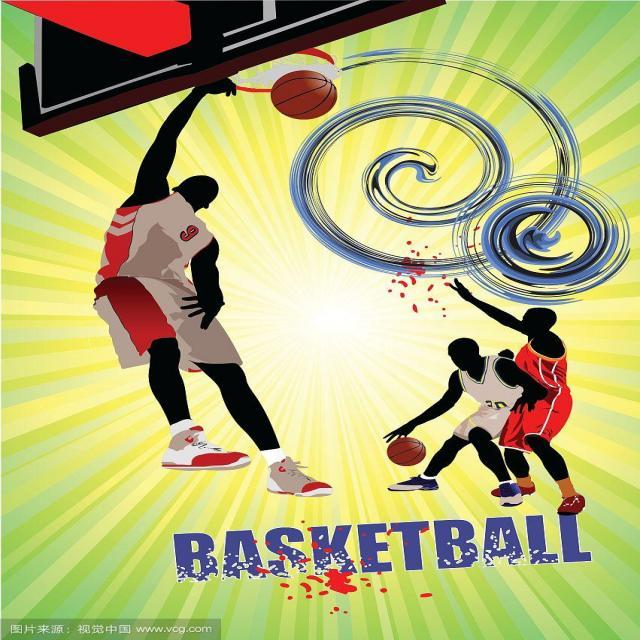rim: (270, 72, 336, 118), (380, 434, 428, 466)
